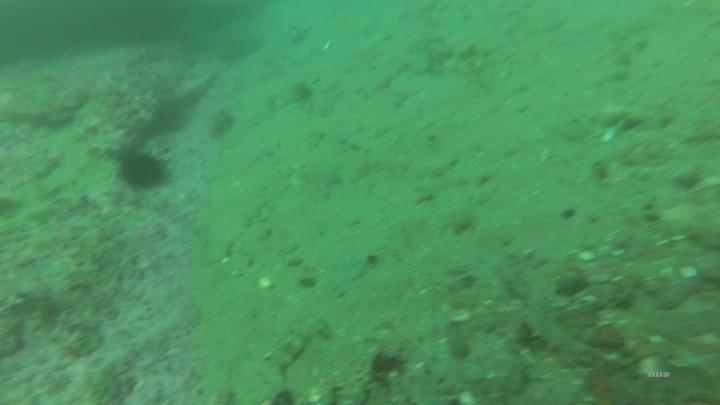echinus: (115, 145, 173, 194), (148, 94, 191, 136)
